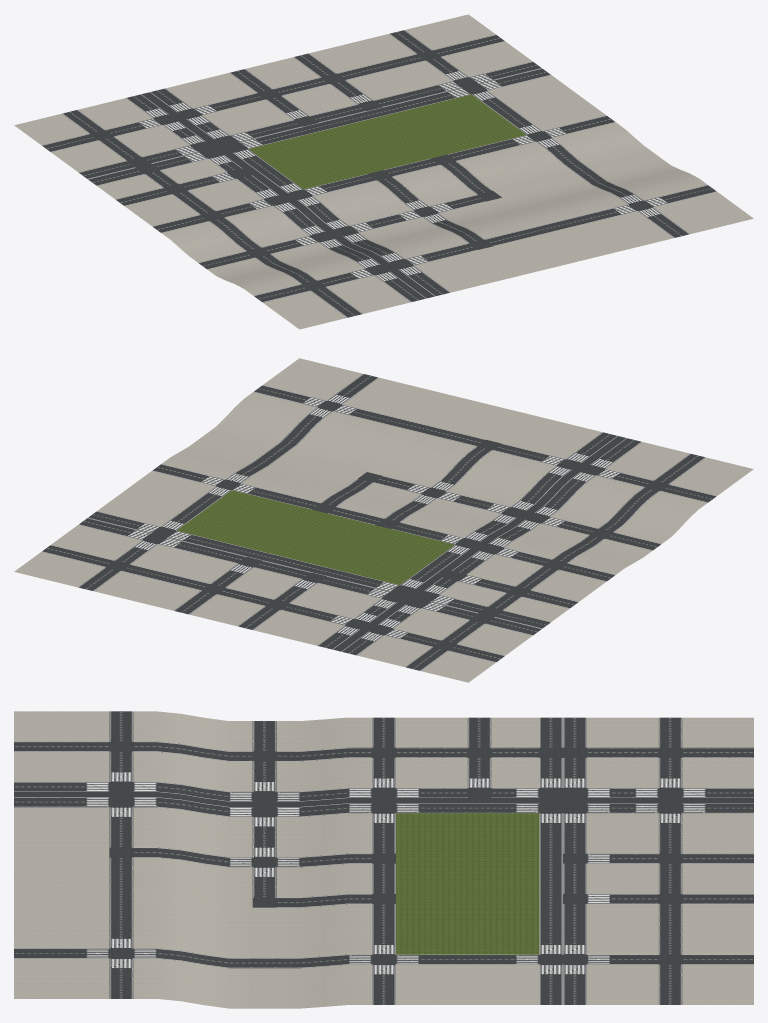
Rendered from map016.fbx.
The picture shows the model from 3 angles, top to bottom: view 1: azimuth 30°, elevation 25°; view 2: azimuth 150°, elevation 25°; view 3: azimuth 270°, elevation 25°; orthographic projection. The views are drawn at different scales.
Parts seen in each view (by area): view 1: map; view 2: map; view 3: map.
Part boxes in pixels (<box>): map: <box>14,14,753,329</box>; map: <box>14,358,753,682</box>; map: <box>14,711,753,1008</box>.
Size of the model in its own units: 456 by 7.15 by 496.
Materials: 6 (6 with a texture image).
